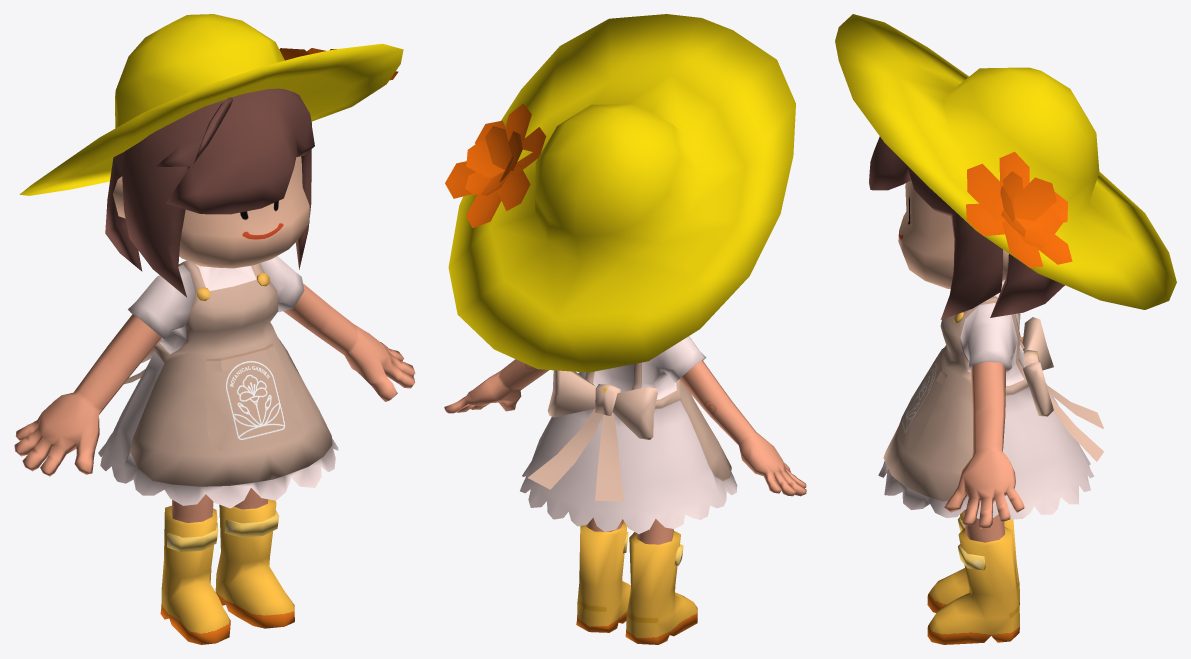
The model's file is girl3.glb.
3 views of the same model, side by side, from view 1: azimuth 30°, elevation 25°; view 2: azimuth 150°, elevation 25°; view 3: azimuth 270°, elevation 25° (orthographic). The views are drawn at different scales.
Visible parts, largest first — view 1: body, hat; view 2: hat, body, flower; view 3: body, hat, flower.
Part boxes in pixels (box(x1,y1,x2,y2)): body: box(14, 88, 415, 644); hat: box(19, 14, 403, 195); hat: box(448, 14, 795, 372); body: box(444, 336, 806, 644); flower: box(445, 103, 546, 227); body: box(869, 136, 1103, 644); hat: box(835, 14, 1176, 309); flower: box(966, 151, 1072, 267).
Size of the model in its own units: 4.35 by 6.55 by 3.5.
3 materials, 1 textured.
